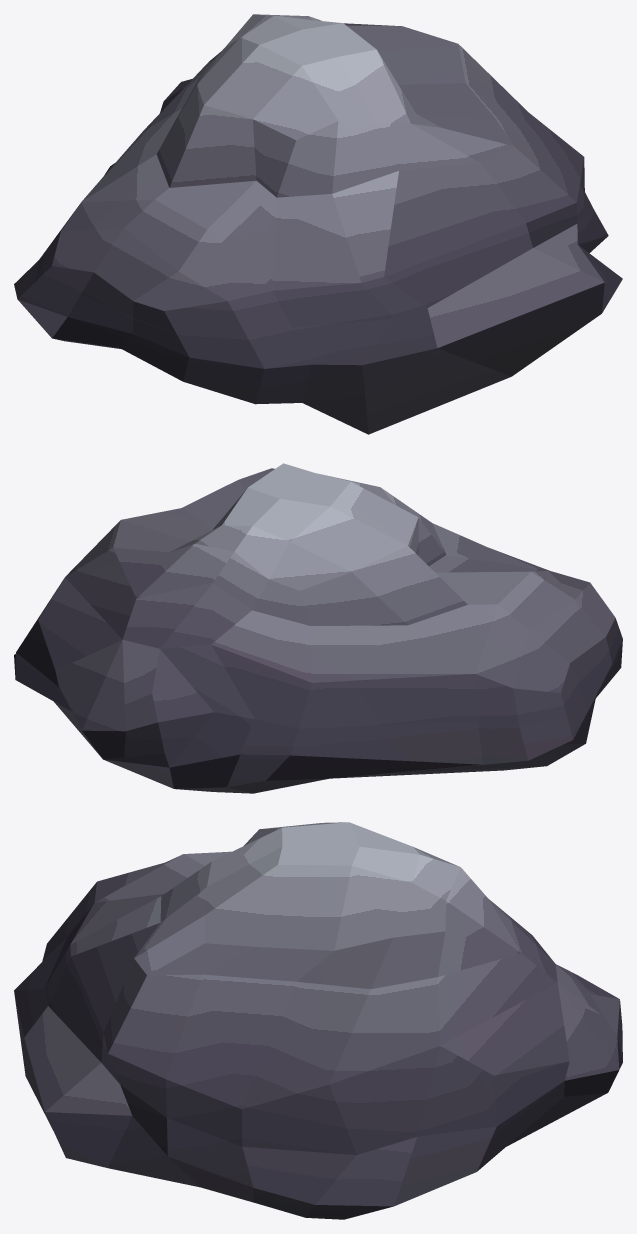
File: rock_savanna_mod_01.fbx
3 views of the same model, one above another, from view 1: azimuth 30°, elevation 25°; view 2: azimuth 150°, elevation 25°; view 3: azimuth 270°, elevation 25° (orthographic). The views are drawn at different scales.
Parts seen in each view (by area): view 1: rock01; view 2: rock01; view 3: rock01.
Part boxes in pixels (<box>): rock01: <box>14,14,622,434</box>; rock01: <box>14,463,622,793</box>; rock01: <box>14,822,622,1219</box>.
Size of the model in its own units: 4.99 by 4.5 by 2.29.
